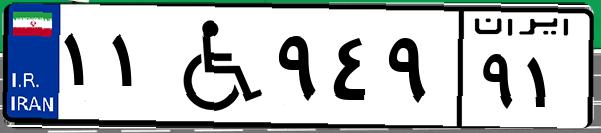1: (57, 26, 110, 100), (525, 38, 570, 115), (110, 28, 158, 98)
4: (330, 28, 385, 110)
9: (270, 28, 330, 110), (385, 28, 445, 110), (475, 38, 525, 113)
ژ (معلولین و جانبازان): (158, 12, 270, 120)
